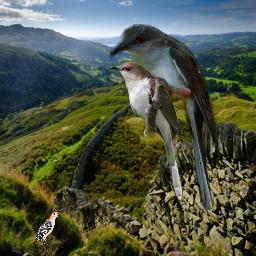Cuckoo: (109, 24, 222, 210), (107, 60, 183, 201)
Woodpecker: (32, 210, 63, 255)
